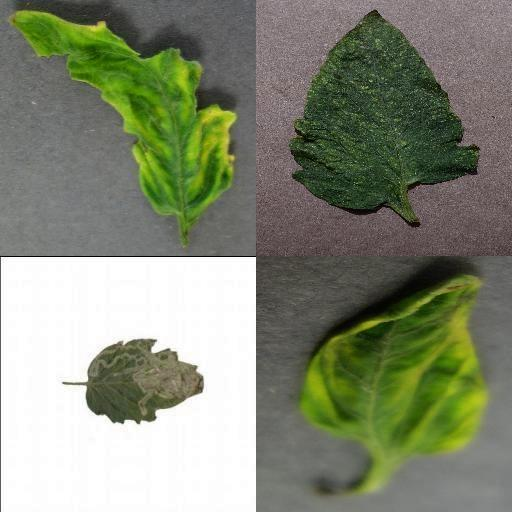Leaf Miner: (85, 336, 205, 425)
Spider Mites: (291, 8, 481, 212)
Yellow Leaf Curl Virus: (6, 11, 238, 223), (298, 275, 488, 461)
